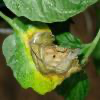Tomato leaf late blight: (2, 11, 89, 95)
